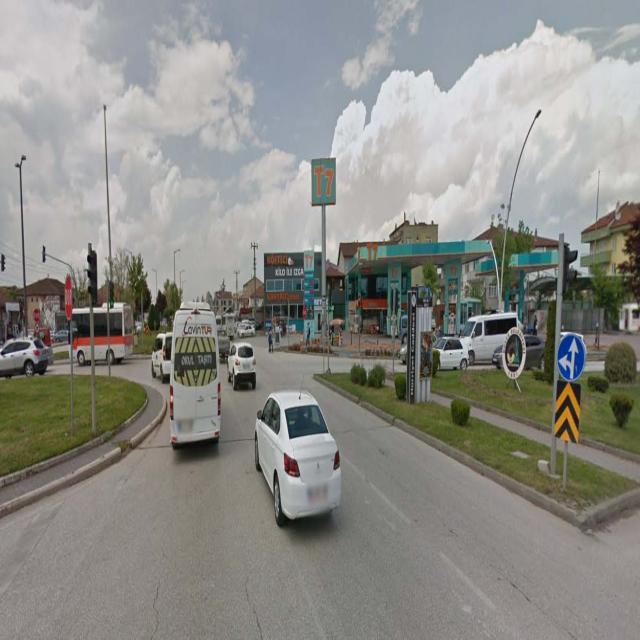dur: (64, 276, 72, 316)
ilerisol: (557, 334, 586, 384)
